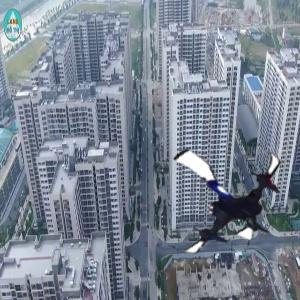drone: (149, 127, 292, 270)
